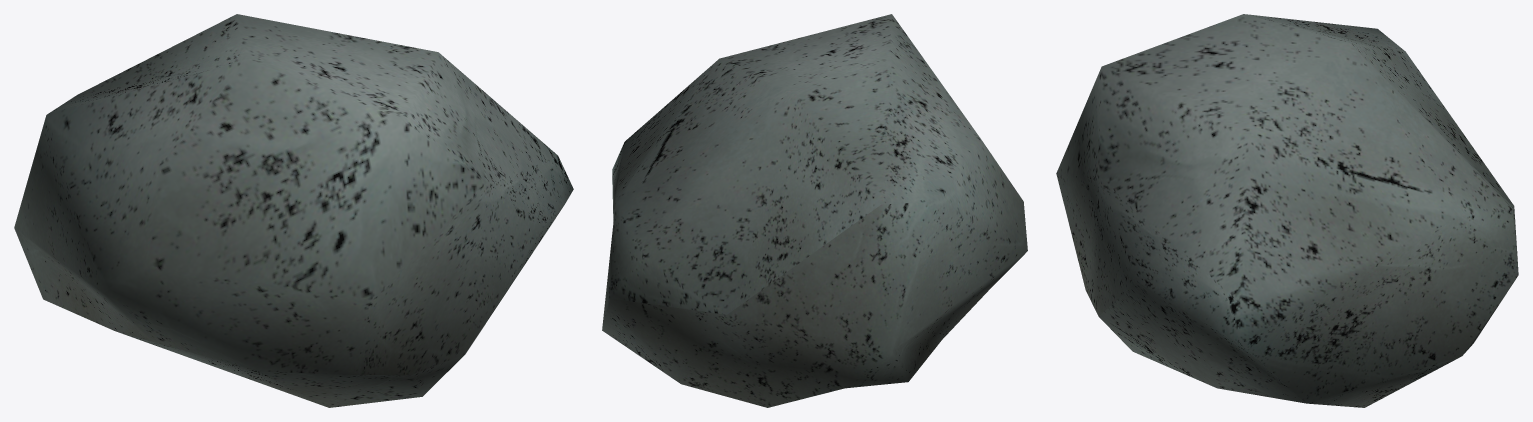
The model's file is SmallStone2.fbx.
3 renders of one model, left to right at view 1: azimuth 30°, elevation 25°; view 2: azimuth 150°, elevation 25°; view 3: azimuth 270°, elevation 25°, orthographic. The views are drawn at different scales.
Parts seen in each view (by area): view 1: SmallStone2_LOD0; view 2: SmallStone2_LOD0; view 3: SmallStone2_LOD0.
Boxes of the visible parts, x1,y1,x2,y2 form: SmallStone2_LOD0: (14,14,573,407); SmallStone2_LOD0: (602,14,1027,407); SmallStone2_LOD0: (1056,14,1518,407).
Size of what is drawn, in the model's own units: 69.84 by 50.69 by 65.19.
1 material, 1 textured.
